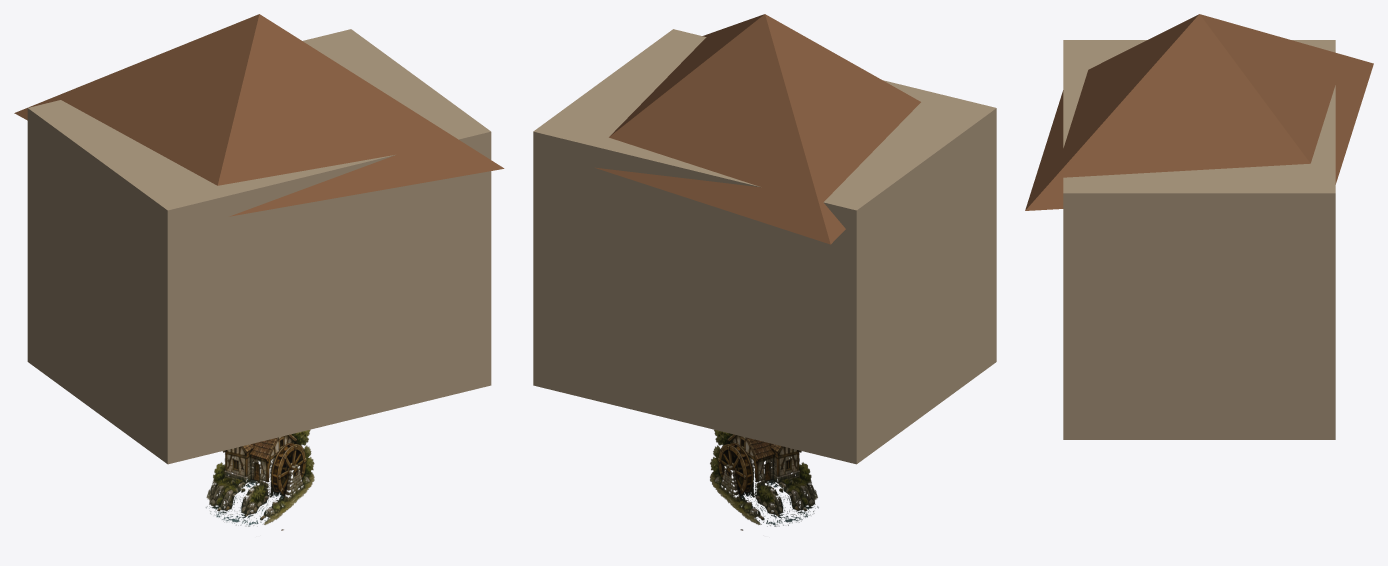
Rendered from mulino.glb.
3 views of the same model, side by side, from view 1: azimuth 30°, elevation 25°; view 2: azimuth 150°, elevation 25°; view 3: azimuth 270°, elevation 25° (orthographic). The views are drawn at different scales.
Visible parts, largest first — view 1: Body, Roof, CatalogTexture; view 2: Body, Roof, CatalogTexture; view 3: Body, Roof.
Boxes of the visible parts, x1=… form: Body: x1=27, y1=29, x2=491, y2=464; Roof: x1=14, y1=14, x2=504, y2=216; CatalogTexture: x1=205, y1=429, x2=314, y2=530; Body: x1=533, y1=29, x2=996, y2=464; Roof: x1=595, y1=14, x2=920, y2=244; CatalogTexture: x1=710, y1=429, x2=818, y2=530; Body: x1=1063, y1=40, x2=1335, y2=439; Roof: x1=1025, y1=14, x2=1373, y2=210.
Size of the model in its own units: 2 by 3.09 by 1.92.
3 materials, 1 textured.
